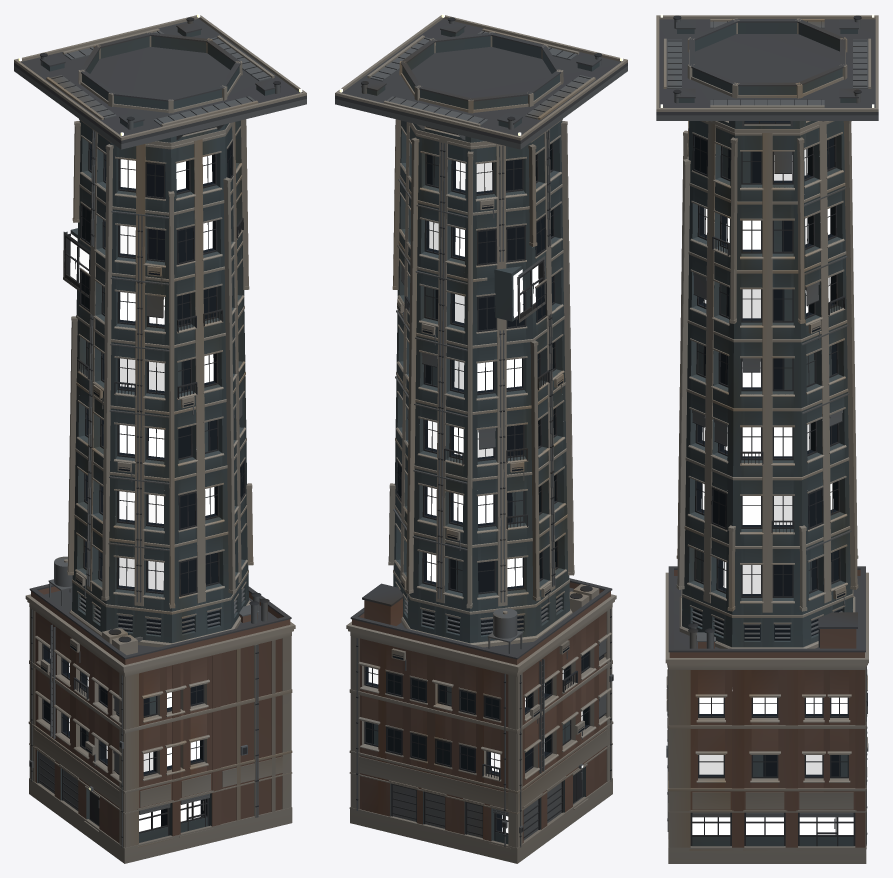
File: signal217.glb
The picture shows the model from 3 angles, left to right: view 1: azimuth 30°, elevation 25°; view 2: azimuth 150°, elevation 25°; view 3: azimuth 270°, elevation 25°; orthographic projection. The views are drawn at different scales.
Visible parts, largest first — view 1: s217-trim, s217-wall2, s217-wall, s217-roof, s217-steel, s217-frame, s217-dark, s217-room2, s217-room1, s217-room0, s217-shop; view 2: s217-trim, s217-wall2, s217-wall, s217-steel, s217-roof, s217-frame, s217-dark, s217-room2, s217-room1, s217-room0; view 3: s217-trim, s217-wall2, s217-wall, s217-roof, s217-frame, s217-dark, s217-steel, s217-room0, s217-room1, s217-shop, s217-room2.
Part boxes in pixels (x1,y1,x2,y2): s217-trim: (14,15,306,863); s217-wall2: (37,28,274,842); s217-wall: (31,586,290,842); s217-roof: (14,18,306,659); s217-steel: (14,21,306,848); s217-frame: (29,17,280,837); s217-dark: (41,144,244,826); s217-room2: (70,159,214,515); s217-room1: (87,155,213,766); s217-room0: (50,358,164,771); s217-shop: (139,800,200,831); s217-trim: (335,15,627,863); s217-wall2: (367,28,599,844); s217-wall: (350,582,610,842); s217-steel: (335,21,627,847); s217-roof: (335,18,627,659); s217-frame: (356,17,613,840); s217-dark: (366,144,602,831); s217-room2: (427,221,538,582); s217-room1: (368,161,582,772); s217-room0: (429,162,544,751); s217-trim: (656,15,878,863); s217-wall2: (677,22,857,846); s217-wall: (669,570,865,847); s217-roof: (656,19,878,652); s217-frame: (667,15,867,846); s217-dark: (693,121,847,776); s217-steel: (656,19,878,845); s217-room0: (699,149,830,774); s217-room1: (699,362,833,713); s217-shop: (692,817,853,834); s217-room2: (701,208,847,713).
Size of the model in its own units: 9.12 by 34.84 by 9.12.
